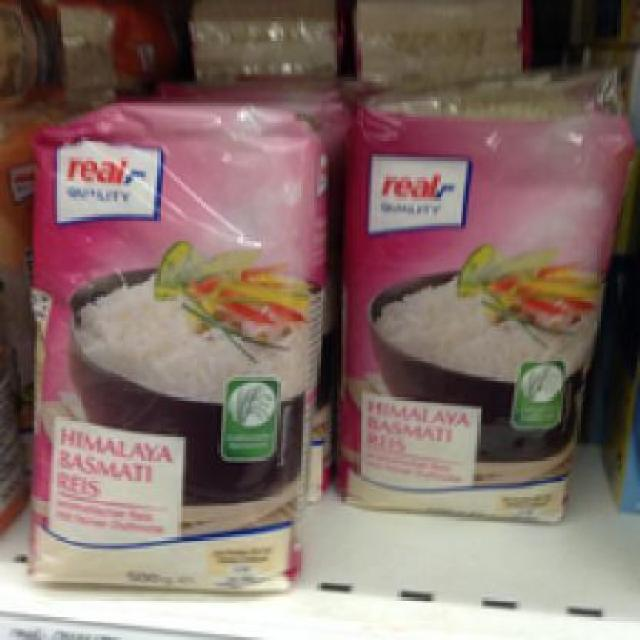Rice: (26, 106, 326, 594), (328, 85, 628, 518)
